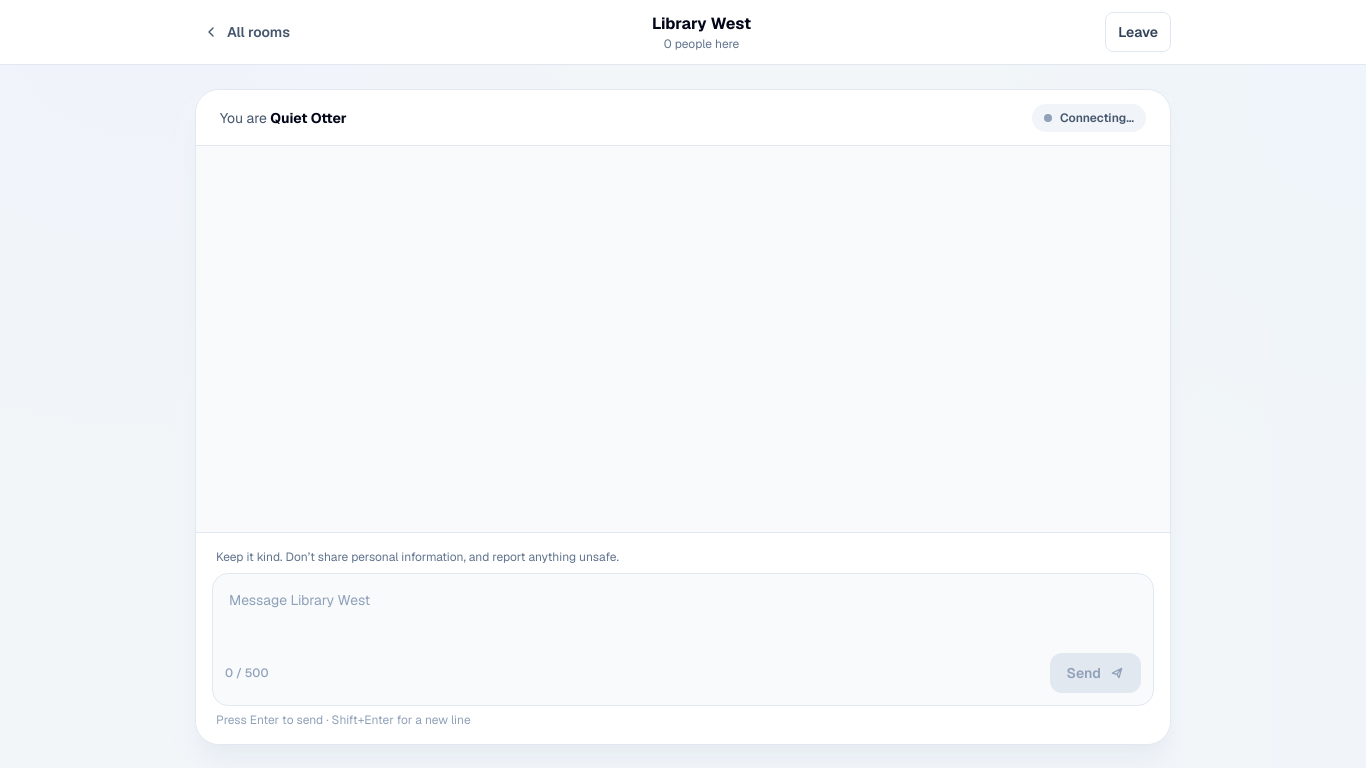
Test: shows the API's message when sending is rejected
This screenshot has width=1366, height=768.
Expected: the text "You are Quiet Otter" is shown, [220, 108, 347, 128]
Type "spam" into the text box labelled "Message Library West" at (683, 614), box [221, 582, 1145, 646]
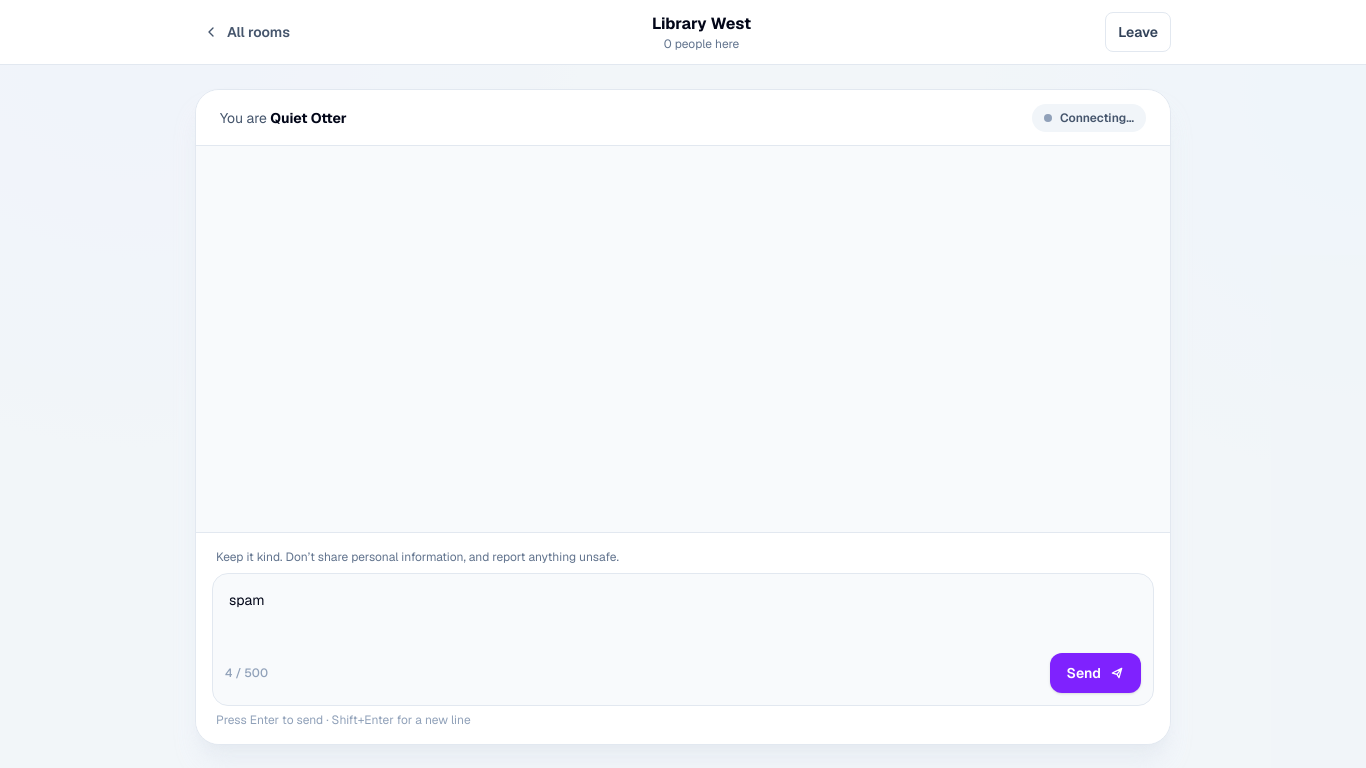
Press Enter in the text box named "Message Library West", box [221, 582, 1145, 646]
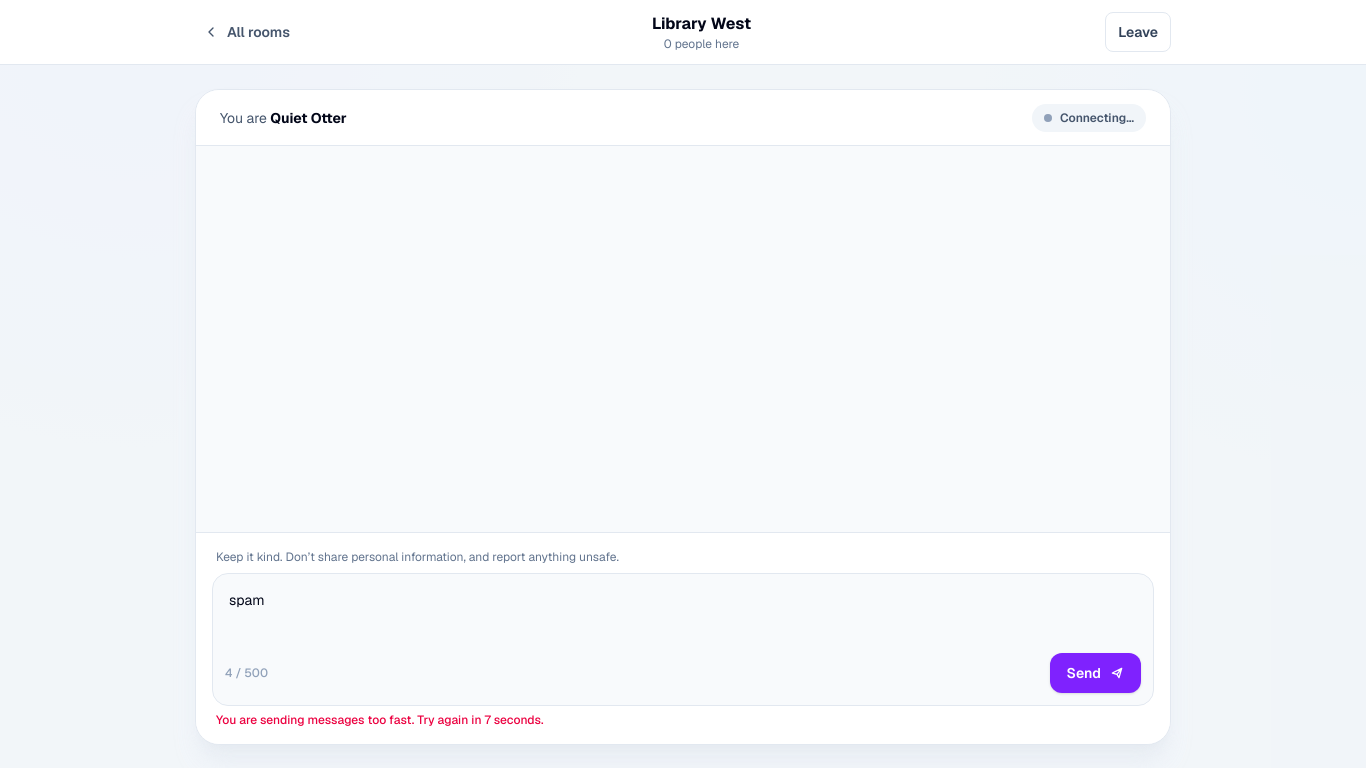
Result: the message "You are sending messages too fast. Try again in 7 seconds." is shown at [216, 712, 544, 728]
